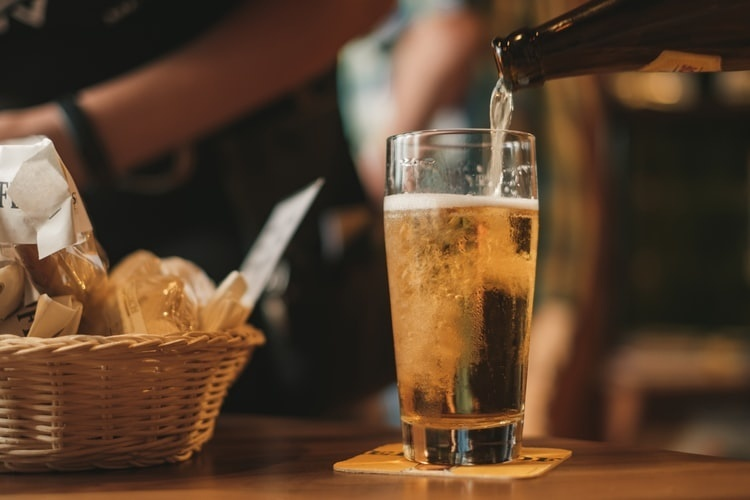whiskey: (390, 125, 527, 474)
